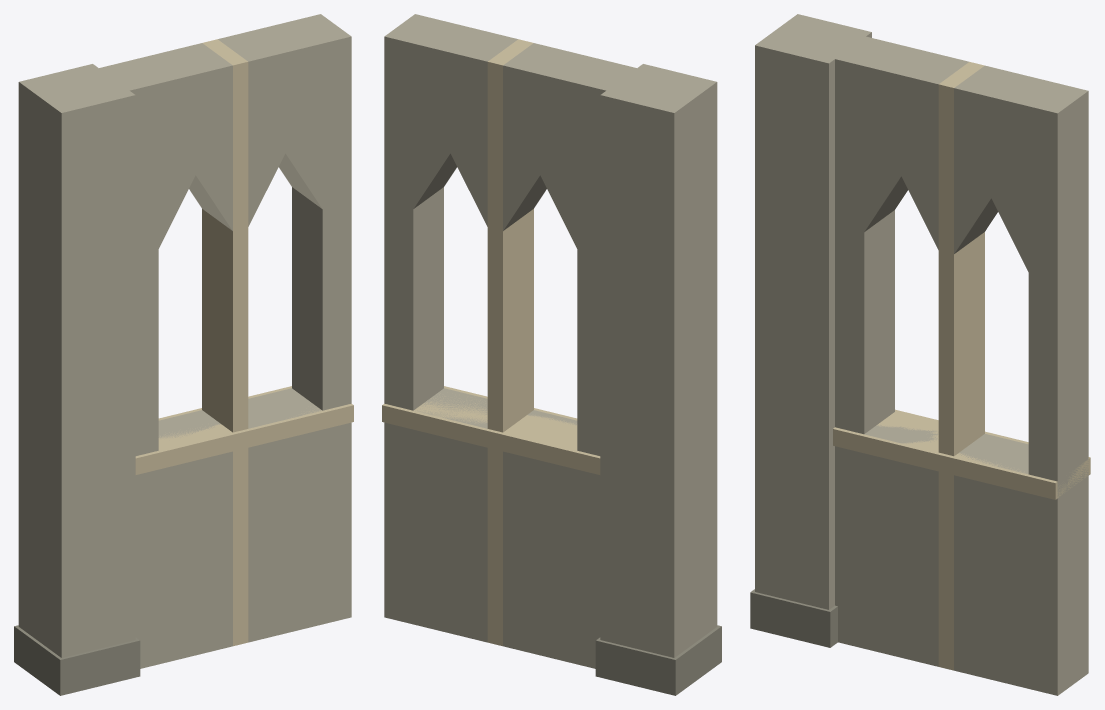
The model's file is twin_lancet.glb.
3 views of the same model, side by side, from view 1: azimuth 30°, elevation 25°; view 2: azimuth 150°, elevation 25°; view 3: azimuth 330°, elevation 25° (orthographic).
Visible parts, largest first — view 1: Twin lancet; view 2: Twin lancet; view 3: Twin lancet.
Boxes of the visible parts, x1,y1,x2,y2 form: Twin lancet: [14, 14, 353, 695]; Twin lancet: [382, 14, 721, 695]; Twin lancet: [750, 14, 1090, 695].
Size of the model in its own units: 1.01 by 1.88 by 0.27.
